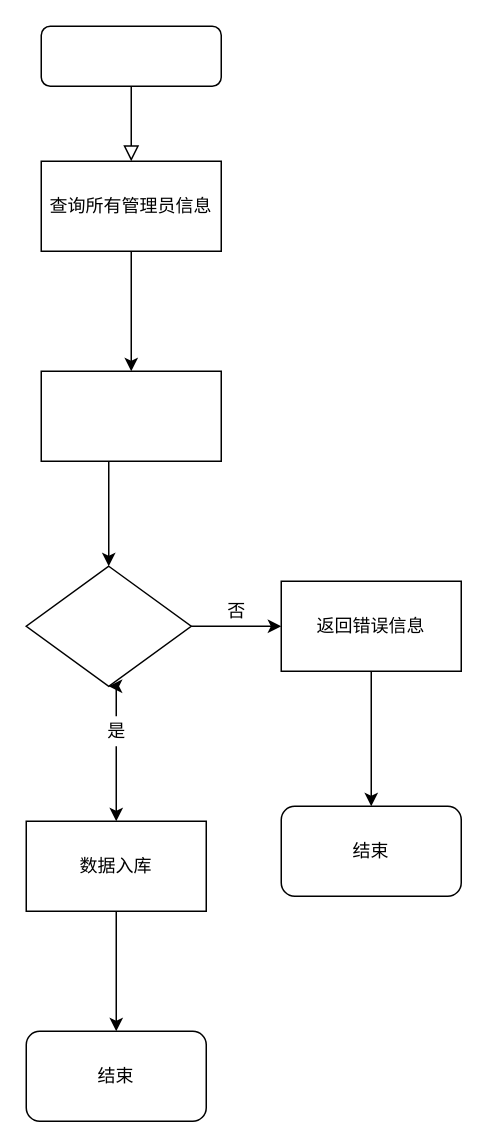
This 488x1148 diagram has some shape labels left out. Here are the shapes that lost their labels. From the top down, the centre of each, then its label:
(x=130, y=55): 开始
(x=130, y=415): 填写仓库 信息
(x=108, y=625): 数据合法性
